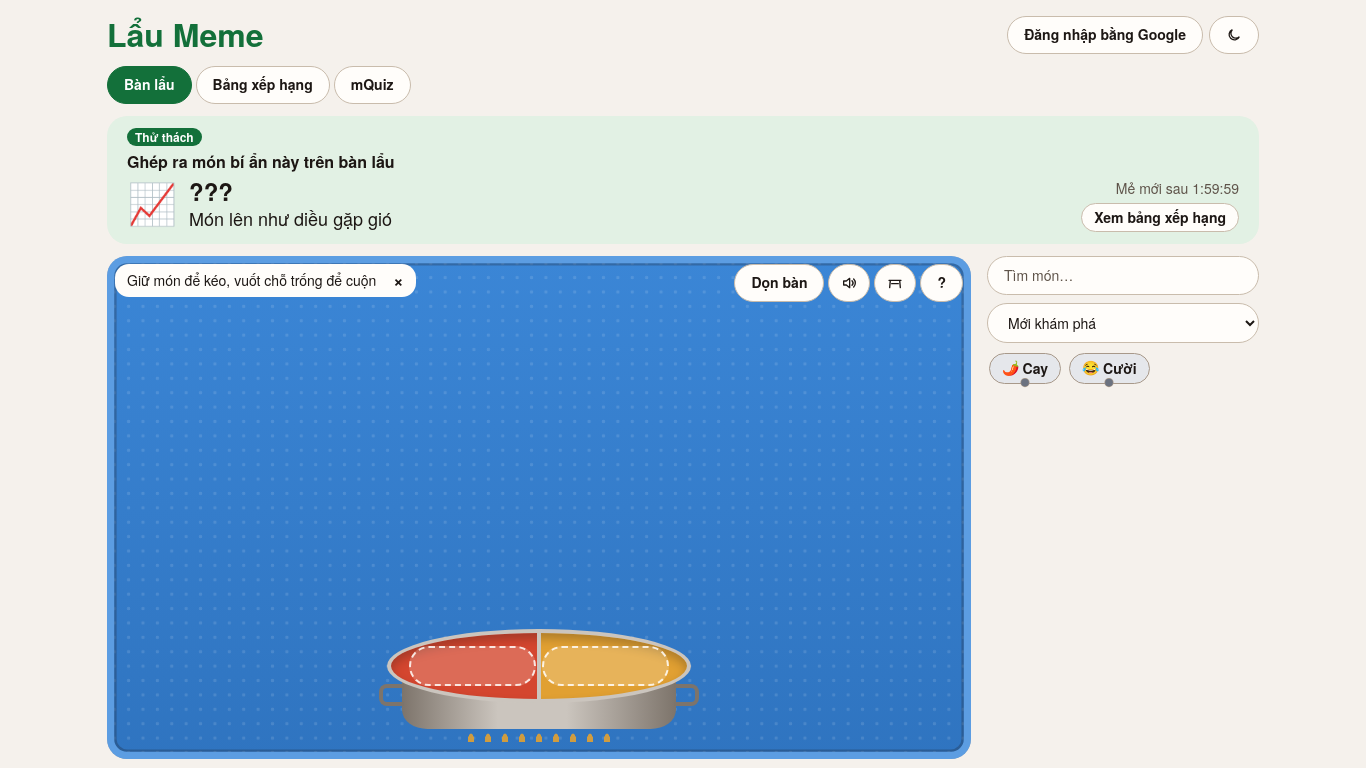
Scenario: touch-scroll: vuốt trên món (AC-GAME-21, cập nhật 2026-10-25) › AC-GAME-21: cảm ứng, bấm nhanh (không di chuyển, nhả < 500 ms) vẫn cho món vào nồi như AC-GAME-24
Expected: the list named "Đĩa nhúng" is shown, x1=989 y1=353 x2=1150 y2=384
Press the mouse on the list item with test id "plate-item" showing "🌶️ Cay": [1025, 368] box x1=989 y1=353 x2=1061 y2=384
Wait 80 ms
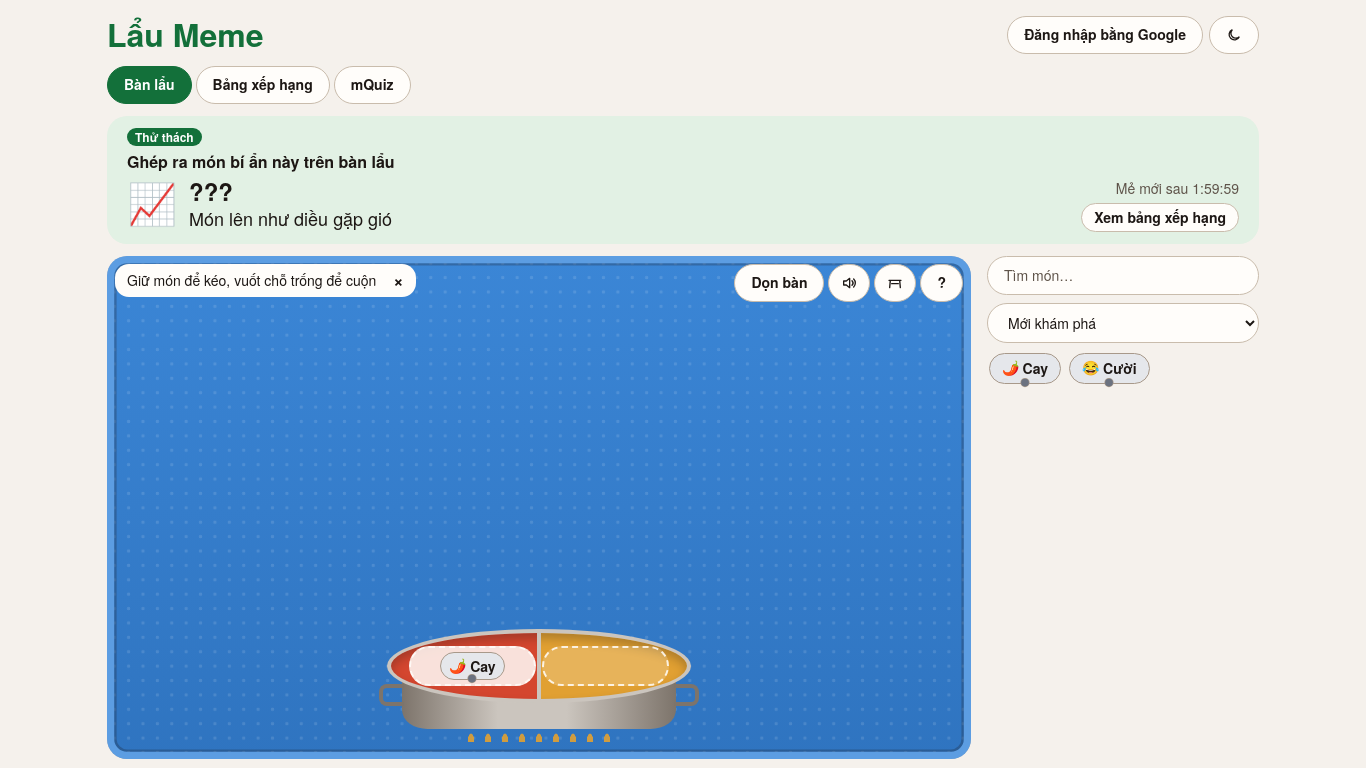
Now the element with test id "pot-slot-1" shows "Cay", box x1=470 y1=656 x2=496 y2=676
